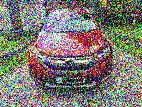car: (28, 7, 114, 89)
